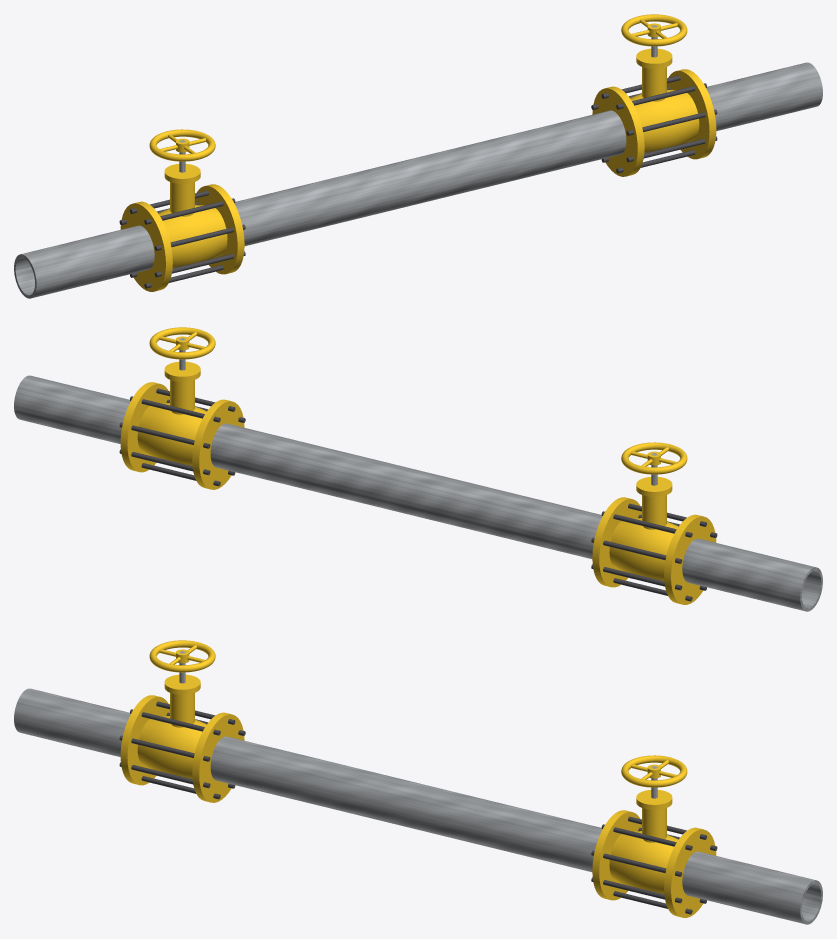
File: pipe-valves.glb
3 views of the same model, one above another, from view 1: azimuth 30°, elevation 25°; view 2: azimuth 150°, elevation 25°; view 3: azimuth 330°, elevation 25° (orthographic).
Parts seen in each view (by area): view 1: pipe-middle, pipe-left, pipe-right, valve-left-body, valve-right-body, valve-left-flange-a, valve-right-flange-a, valve-right-studs, valve-left-studs, valve-right-flange-b, valve-left-flange-b, valve-left-handwheel (+3 smaller); view 2: pipe-middle, pipe-left, pipe-right, valve-left-body, valve-right-body, valve-left-flange-a, valve-right-flange-a, valve-right-studs, valve-left-studs, valve-right-flange-b, valve-left-flange-b, valve-left-handwheel (+3 smaller); view 3: pipe-middle, pipe-right, pipe-left, valve-right-body, valve-left-body, valve-right-flange-b, valve-left-flange-b, valve-left-studs, valve-right-studs, valve-left-flange-a, valve-right-flange-a, valve-right-handwheel (+3 smaller).
Boxes of the visible parts, left/top/right/bottom form: pipe-middle: left=234, top=110, right=626, bottom=245; pipe-left: left=14, top=225, right=154, bottom=298; pipe-right: left=706, top=62, right=822, bottom=130; valve-left-body: left=158, top=205, right=227, bottom=268; valve-right-body: left=630, top=90, right=699, bottom=153; valve-left-flange-a: left=120, top=201, right=172, bottom=291; valve-right-flange-a: left=592, top=86, right=644, bottom=176; valve-right-studs: left=591, top=75, right=717, bottom=173; valve-left-studs: left=119, top=190, right=245, bottom=288; valve-right-flange-b: left=667, top=69, right=716, bottom=159; valve-left-flange-b: left=195, top=184, right=244, bottom=274; valve-left-handwheel: left=149, top=129, right=215, bottom=161; pipe-middle: left=210, top=423, right=602, bottom=558; pipe-left: left=682, top=538, right=822, bottom=611; pipe-right: left=14, top=375, right=130, bottom=443; valve-left-body: left=609, top=518, right=678, bottom=581; valve-right-body: left=137, top=403, right=206, bottom=466; valve-left-flange-a: left=664, top=514, right=716, bottom=604; valve-right-flange-a: left=192, top=399, right=244, bottom=489; valve-right-studs: left=119, top=388, right=245, bottom=486; valve-left-studs: left=591, top=503, right=717, bottom=601; valve-right-flange-b: left=120, top=382, right=169, bottom=472; valve-left-flange-b: left=592, top=497, right=641, bottom=587; valve-left-handwheel: left=621, top=442, right=687, bottom=474; pipe-middle: left=210, top=736, right=602, bottom=871; pipe-right: left=682, top=851, right=822, bottom=924; pipe-left: left=14, top=688, right=130, bottom=756; valve-right-body: left=609, top=831, right=678, bottom=894; valve-left-body: left=137, top=716, right=206, bottom=779; valve-right-flange-b: left=664, top=827, right=716, bottom=917; valve-left-flange-b: left=192, top=712, right=244, bottom=802; valve-left-studs: left=119, top=701, right=245, bottom=799; valve-right-studs: left=591, top=816, right=717, bottom=914; valve-left-flange-a: left=120, top=695, right=169, bottom=785; valve-right-flange-a: left=592, top=810, right=641, bottom=900; valve-right-handwheel: left=621, top=755, right=687, bottom=787.
Size of the model in its own units: 4 by 0.67 by 0.4.
Materials: 3 (1 with a texture image).
